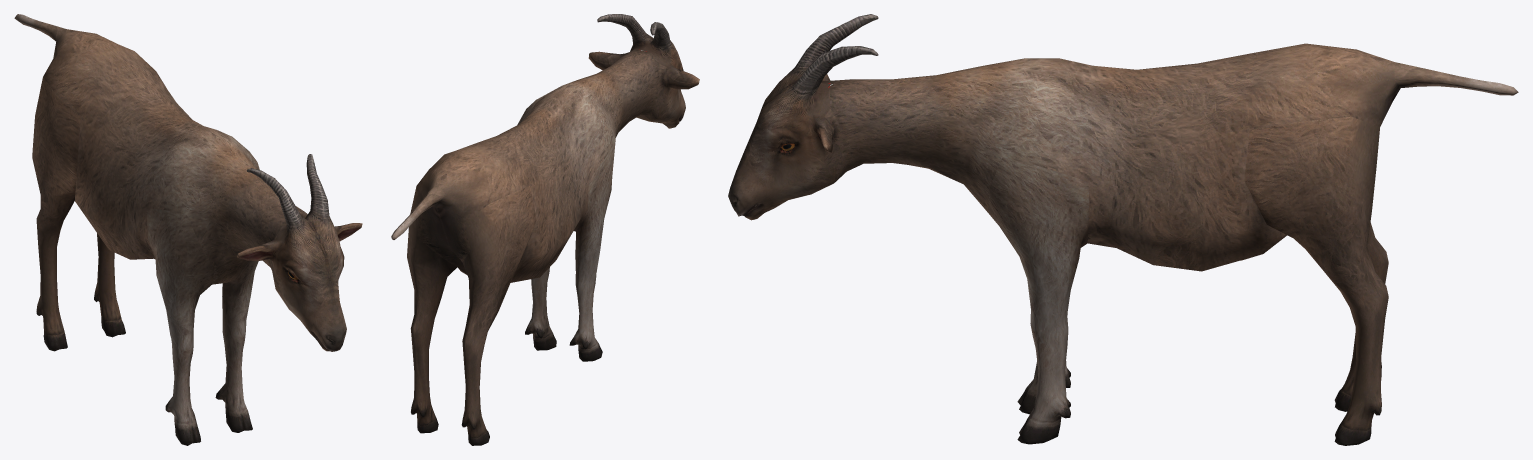
File: goat.obj
3 views of the same model, side by side, from view 1: azimuth 30°, elevation 25°; view 2: azimuth 150°, elevation 25°; view 3: azimuth 270°, elevation 25° (orthographic). The views are drawn at different scales.
Parts seen in each view (by area): view 1: Goat; view 2: Goat; view 3: Goat.
Boxes of the visible parts, x1,y1,x2,y2 form: Goat: [14, 14, 362, 445]; Goat: [391, 14, 699, 445]; Goat: [728, 14, 1518, 445].
Bounding box in the file's own units: 0.6537 × 1.62 × 2.96.
Materials: 1 (1 with a texture image).
